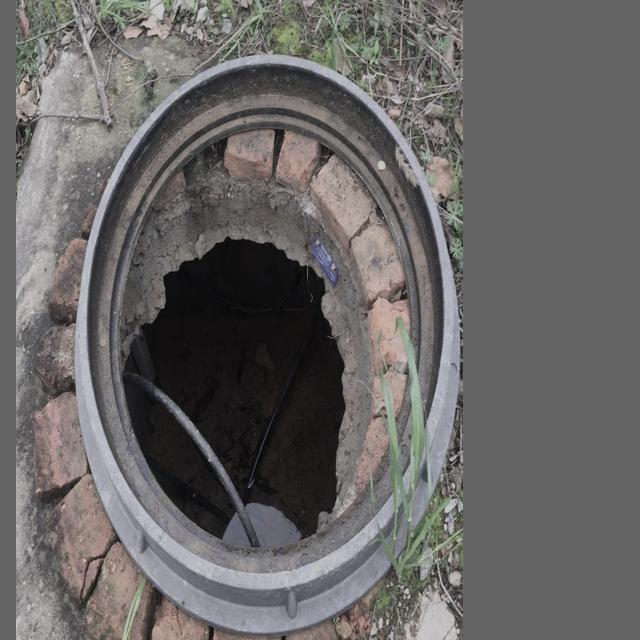lose: (74, 55, 463, 638)
